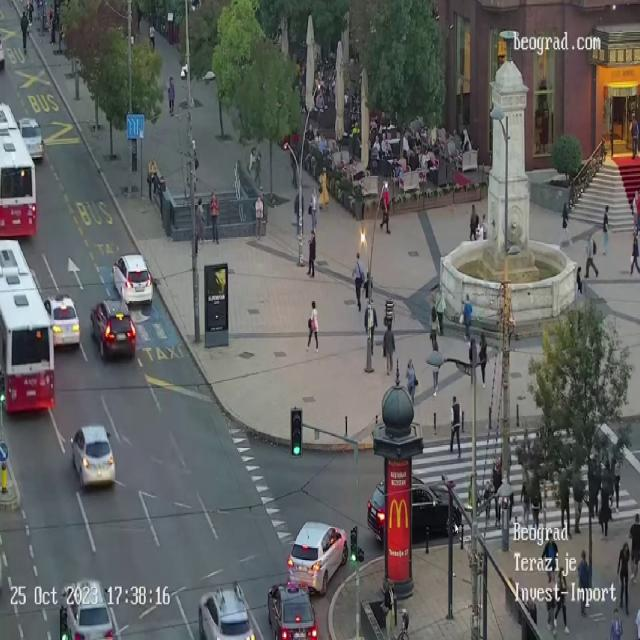bus: (0, 238, 55, 413), (0, 102, 37, 238)
car: (369, 473, 459, 544), (287, 520, 348, 596), (59, 578, 121, 640), (198, 582, 255, 640), (267, 581, 318, 639), (70, 424, 116, 488), (90, 300, 136, 361), (112, 253, 153, 306), (44, 294, 80, 348), (20, 118, 46, 158)
